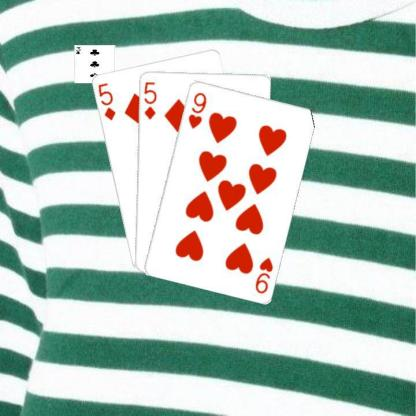5D: (94, 80, 116, 122), (141, 79, 158, 120)
9H: (252, 254, 274, 295), (186, 90, 208, 130)
